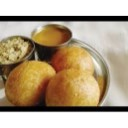bonda: (4, 61, 57, 107), (47, 70, 103, 107), (50, 44, 94, 76)
